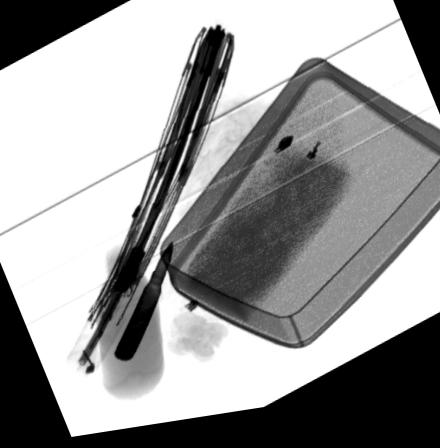Bullet: (111, 244, 172, 366)
